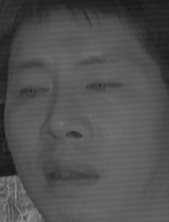eye: (84, 76, 122, 97), (16, 83, 51, 103)
mouth: (38, 159, 102, 192)
